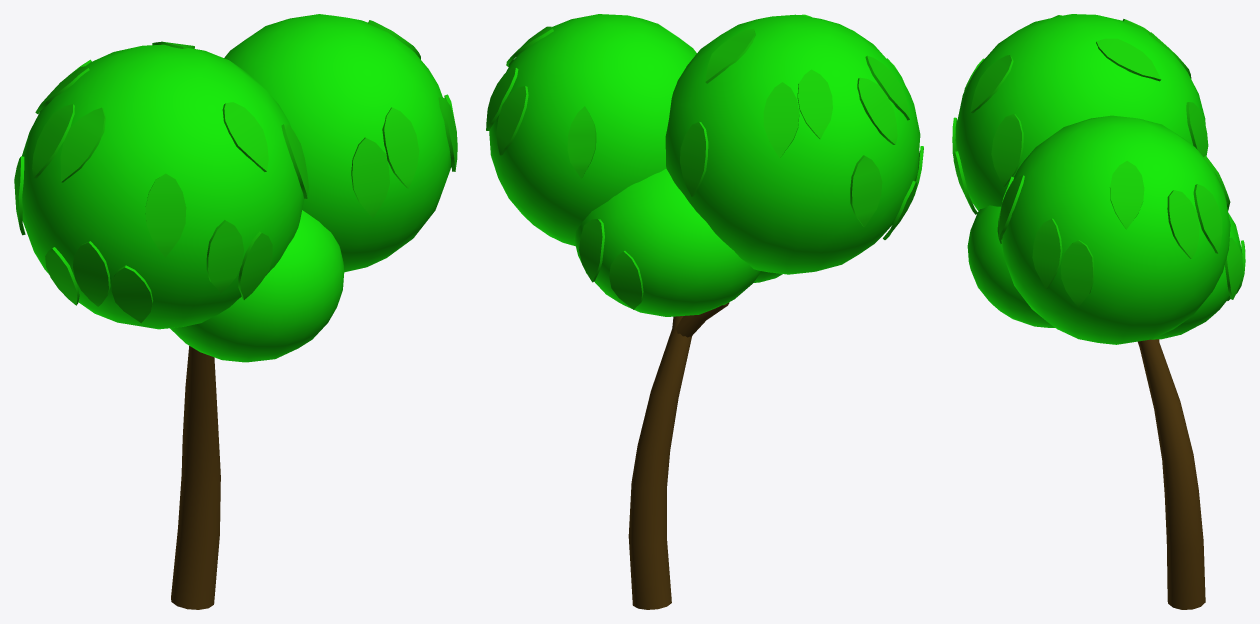
File: Apple_lvl2.fbx
3 renders of one model, left to right at view 1: azimuth 30°, elevation 25°; view 2: azimuth 150°, elevation 25°; view 3: azimuth 270°, elevation 25°, orthographic. The views are drawn at different scales.
Visible parts, largest first — view 1: Apple_tree_lvl2_LOD0; view 2: Apple_tree_lvl2_LOD0; view 3: Apple_tree_lvl2_LOD0.
Boxes of the visible parts, x1,y1,x2,y2 form: Apple_tree_lvl2_LOD0: (14,14,457,609); Apple_tree_lvl2_LOD0: (486,14,923,609); Apple_tree_lvl2_LOD0: (952,14,1245,609).
Size of what is drawn, in the model's own units: 134 by 91.83 by 186.
